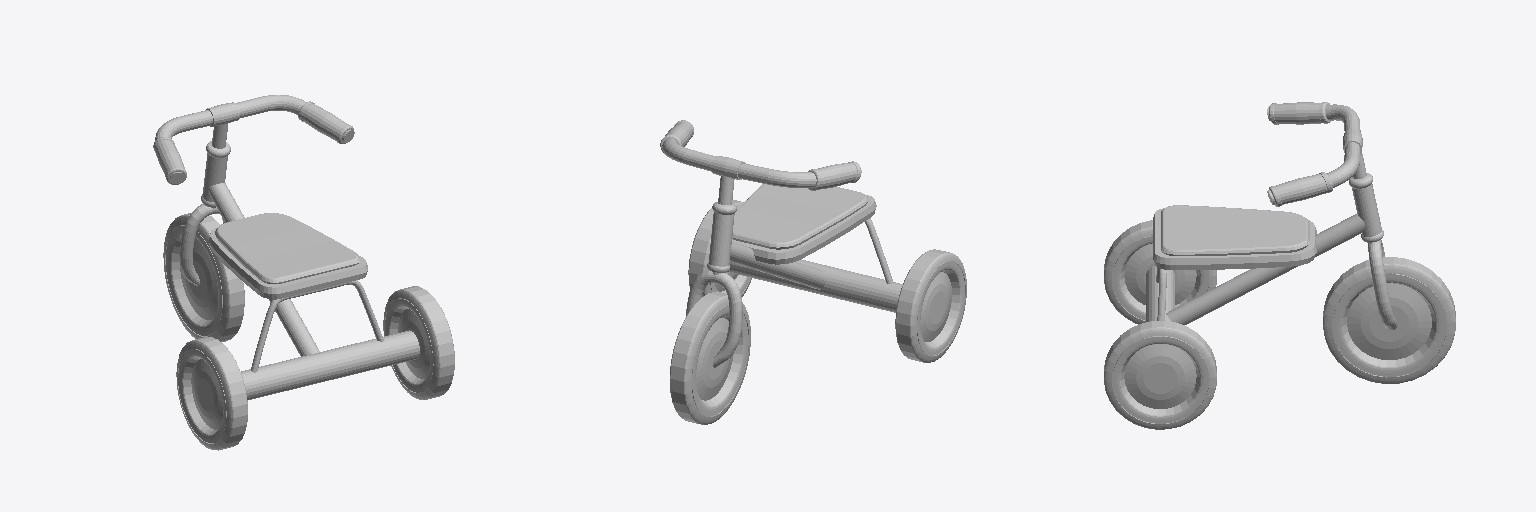
Rendered from Tricycle.obj.
3 renders of one model, left to right at view 1: azimuth 30°, elevation 25°; view 2: azimuth 150°, elevation 25°; view 3: azimuth 270°, elevation 25°, orthographic.
Visible parts, largest first — view 1: WheelBack, Frame, SeatPt2, WheelFront, HandleBars, SeatPt1; view 2: Frame, WheelBack, WheelFront, SeatPt2, HandleBars, SeatPt1; view 3: WheelBack, WheelFront, Frame, SeatPt2, HandleBars, SeatPt1.
Boxes of the visible parts, box(x1,y1,x2,y2) form: WheelBack: box(176, 286, 454, 450); Frame: box(179, 124, 419, 399); SeatPt2: box(215, 213, 359, 283); WheelFront: box(163, 213, 244, 341); HandleBars: box(153, 95, 354, 184); SeatPt1: box(208, 227, 367, 299); Frame: box(686, 176, 902, 367); WheelBack: box(688, 200, 966, 362); WheelFront: box(670, 292, 750, 424); SeatPt2: box(732, 184, 868, 249); HandleBars: box(660, 120, 861, 190); SeatPt1: box(732, 184, 876, 264); WheelBack: box(1104, 220, 1216, 429); WheelFront: box(1323, 257, 1455, 383); Frame: box(1146, 153, 1397, 329); SeatPt2: box(1161, 205, 1309, 255); HandleBars: box(1267, 102, 1362, 206); SeatPt1: box(1153, 208, 1316, 269).
Bounding box in the file's own units: 1.96 × 2.03 × 2.63.